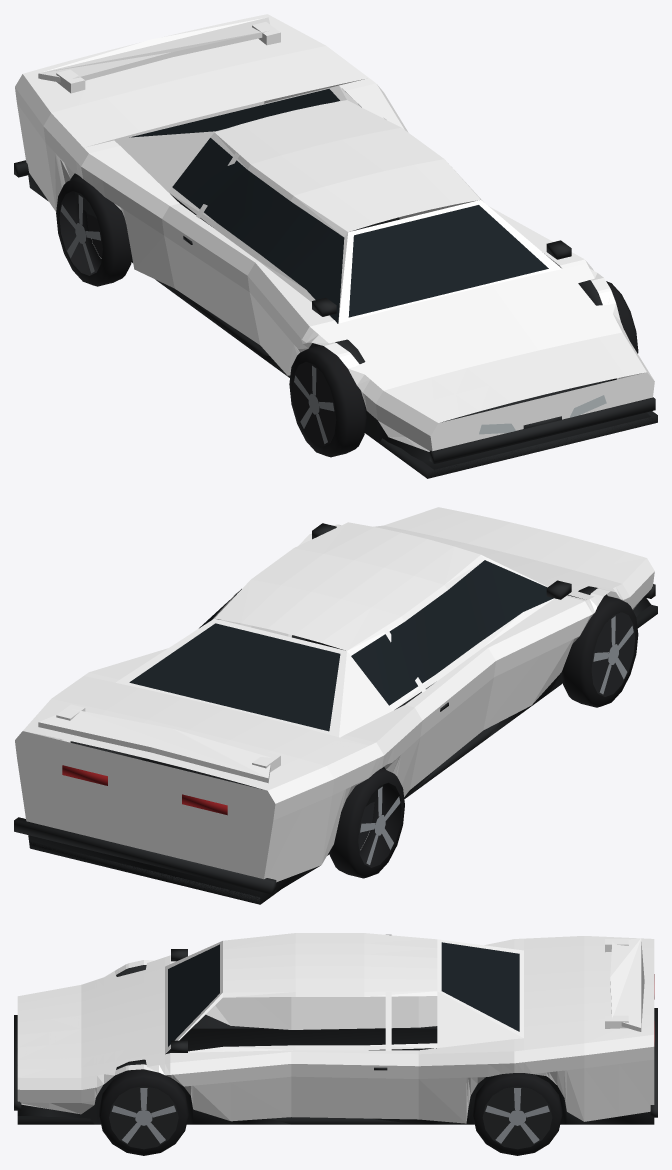
The model's file is taurenza_meteorito.glb.
3 renders of one model, top to bottom at view 1: azimuth 30°, elevation 25°; view 2: azimuth 150°, elevation 25°; view 3: azimuth 270°, elevation 25°, orthographic. The views are drawn at different scales.
Parts seen in each view (by area): view 1: Body_Paint, Body_Details, Mount_FrontLeft_Wheel_Details, Mount_RearLeft_Wheel_Details, Mount_FrontRight_Wheel_Details; view 2: Body_Paint, Body_Details, Mount_FrontLeft_Wheel_Details, Mount_RearLeft_Wheel_Details; view 3: Body_Paint, Body_Details, Mount_FrontRight_Wheel_Details, Mount_RearRight_Wheel_Details.
Part boxes in pixels (x1,y1,x2,y2): Body_Paint: (15, 14, 654, 451); Body_Details: (14, 88, 657, 478); Mount_FrontLeft_Wheel_Details: (289, 345, 366, 457); Mount_RearLeft_Wheel_Details: (56, 176, 131, 286); Mount_FrontRight_Wheel_Details: (606, 281, 638, 353); Body_Paint: (15, 507, 654, 882); Body_Details: (14, 523, 657, 904); Mount_FrontLeft_Wheel_Details: (561, 595, 638, 707); Mount_RearLeft_Wheel_Details: (329, 768, 404, 878); Body_Paint: (17, 933, 654, 1123); Body_Details: (14, 942, 657, 1124); Mount_FrontRight_Wheel_Details: (99, 1069, 188, 1155); Mount_RearRight_Wheel_Details: (472, 1073, 562, 1155).
Size of the model in its own units: 2.13 by 1.17 by 4.89.
2 materials, 1 textured.
